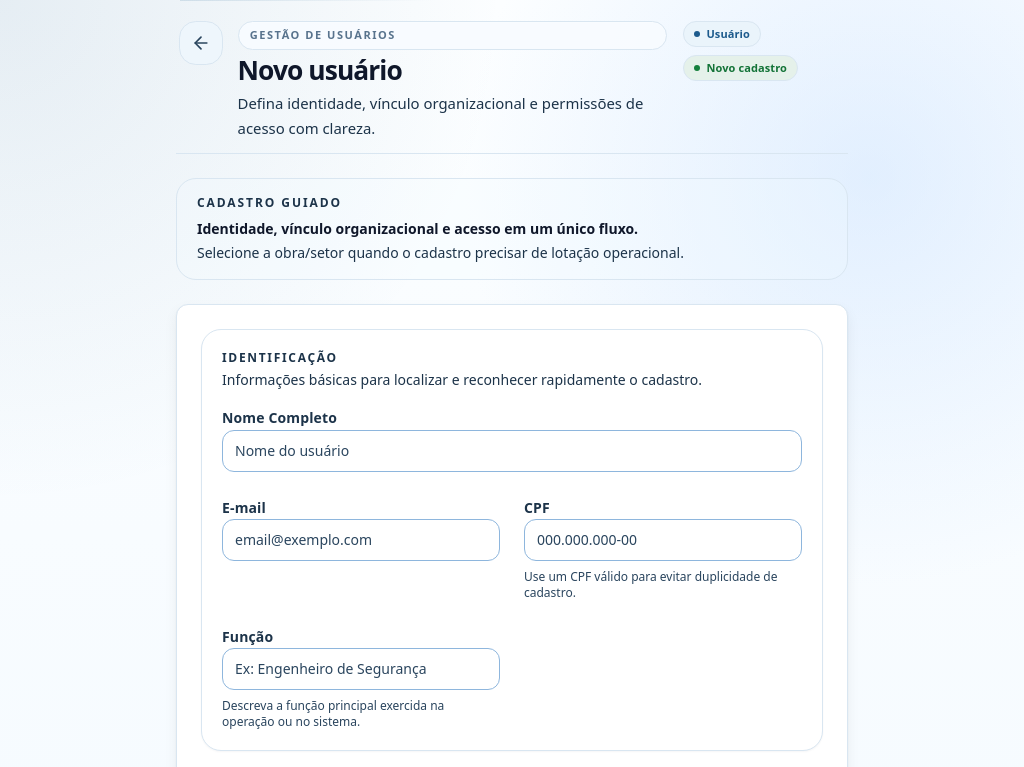
Test: UserForm › mostra erro Email inválido para formato incorreto
In the field labelled "Nome Completo": (512, 451) [222, 430, 802, 472], type "Funcionário Teste"
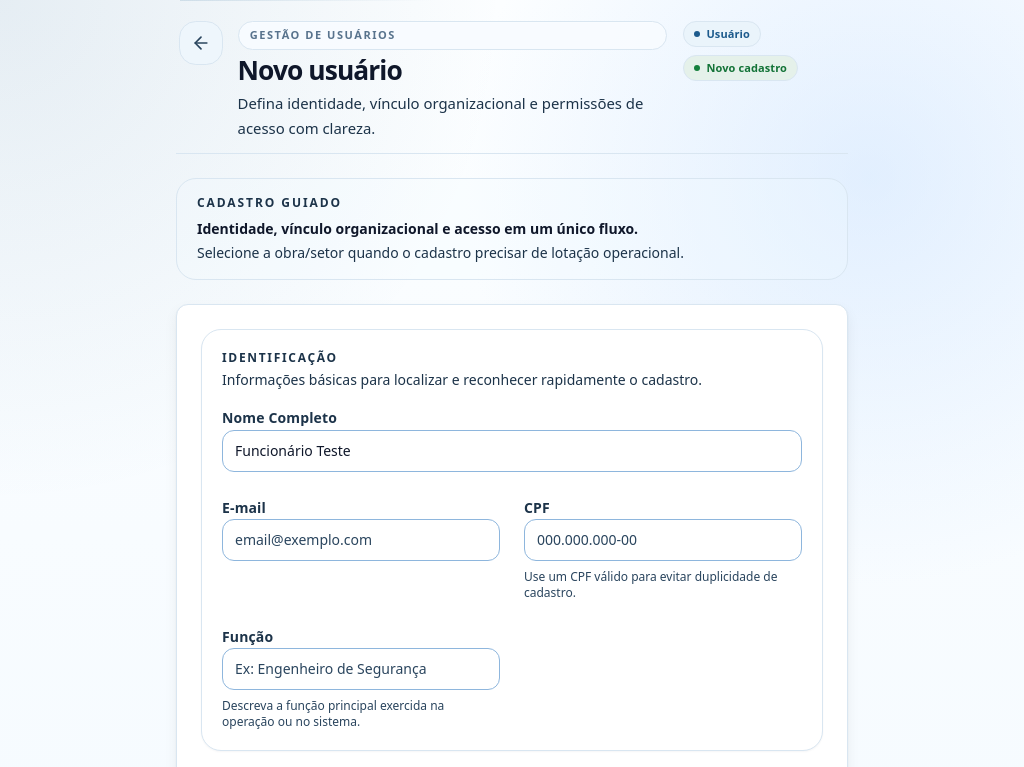
In the field labelled "Função": (361, 669) [222, 648, 500, 690], type "Técnico"
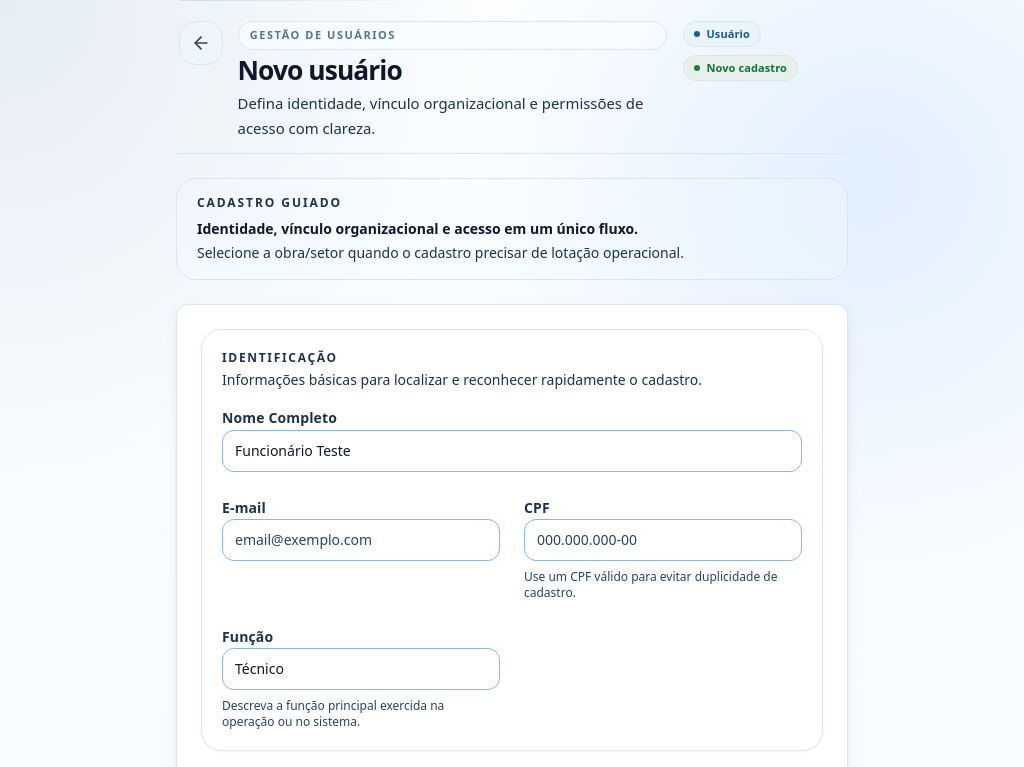
// CPF válido para que apenas o email falhe
In the field labelled "CPF": (663, 540) [524, 519, 802, 561], type "098.780.584-33"
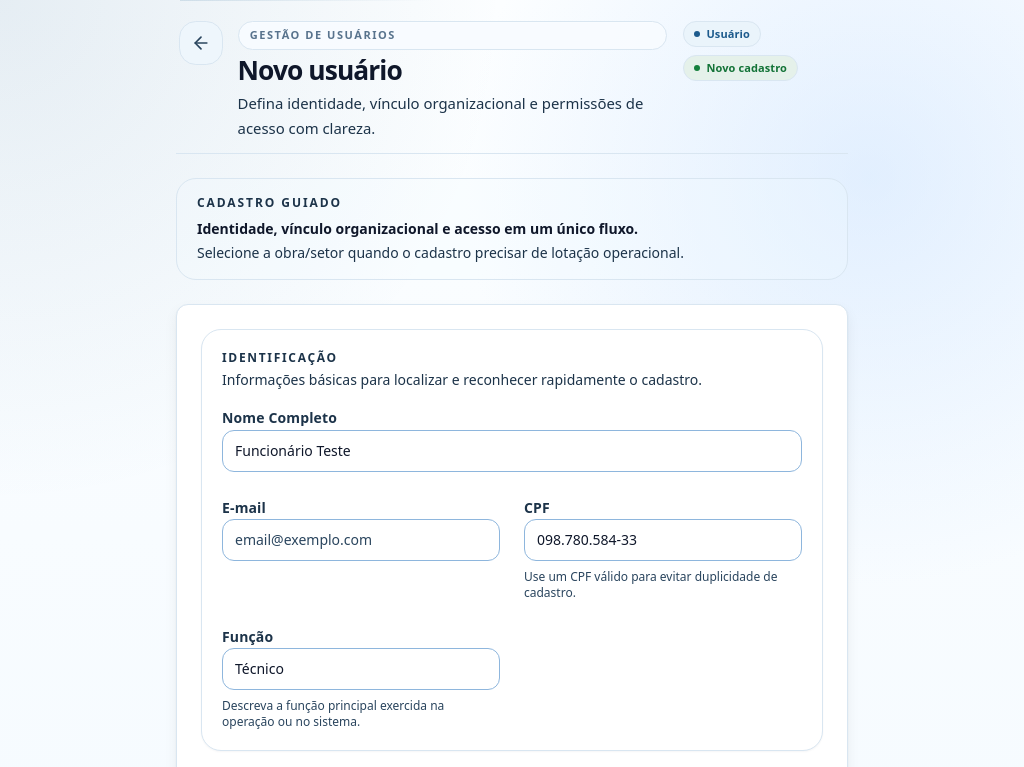
In the field labelled "E-mail": (361, 540) [222, 519, 500, 561], type "email-sem-arroba"
(page scrolled)
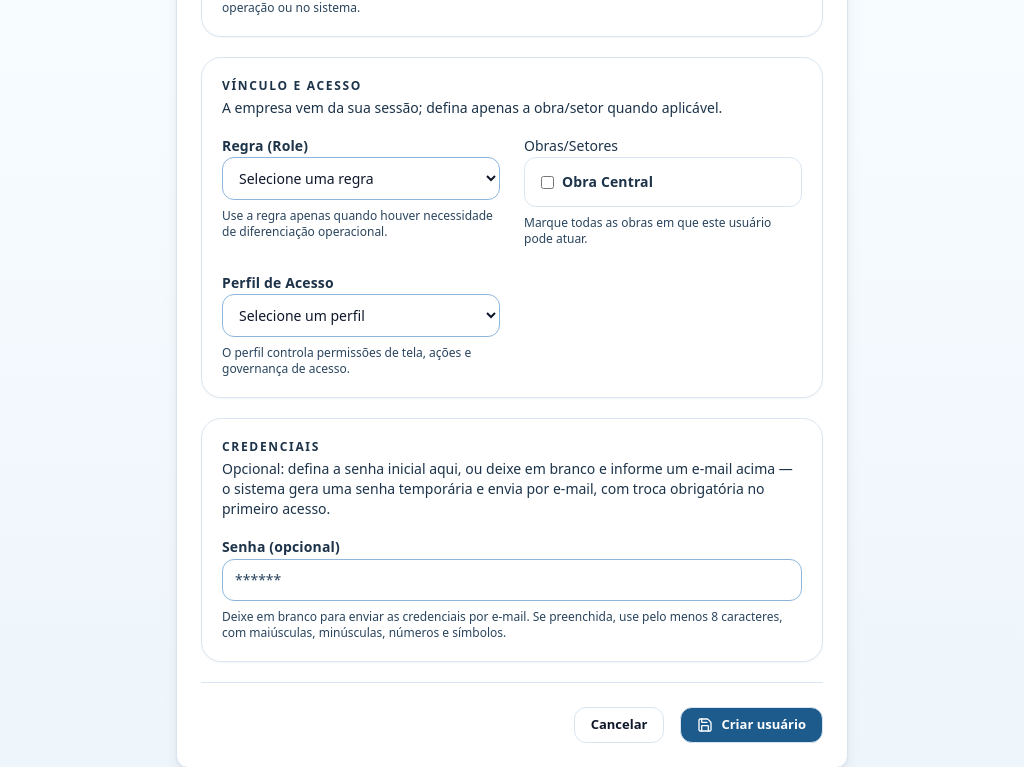
Click the button "Criar usuário": (752, 725) [680, 707, 823, 743]
(page scrolled)
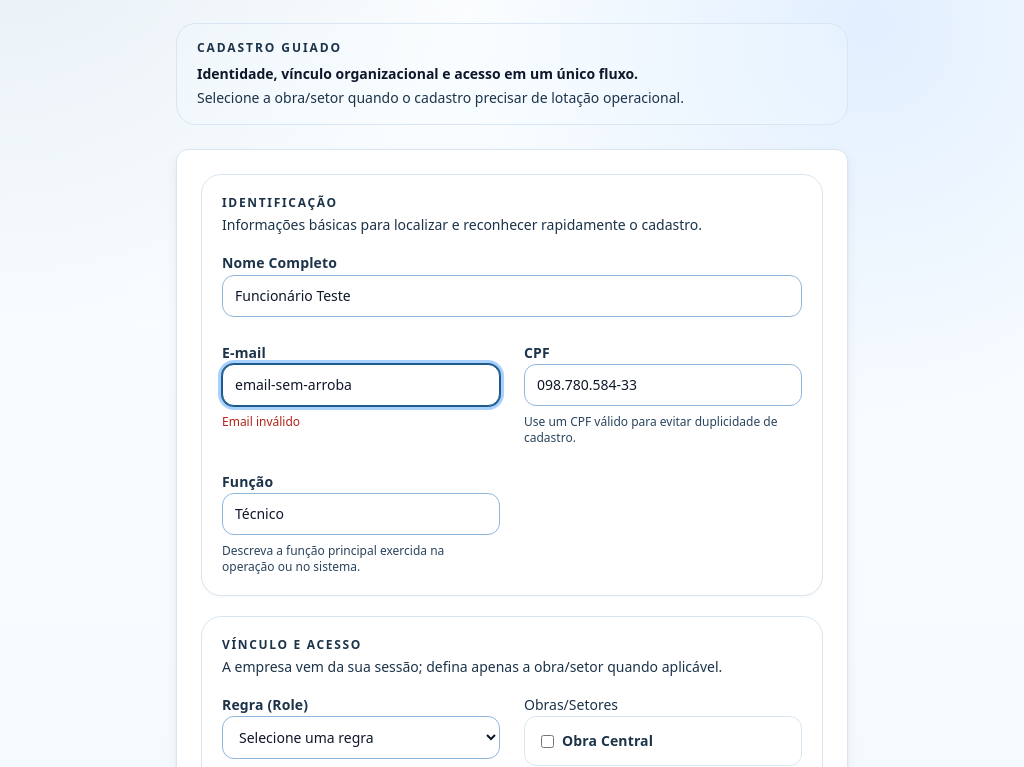
Check: the text "Email inválido" is shown, box [222, 413, 300, 430]
